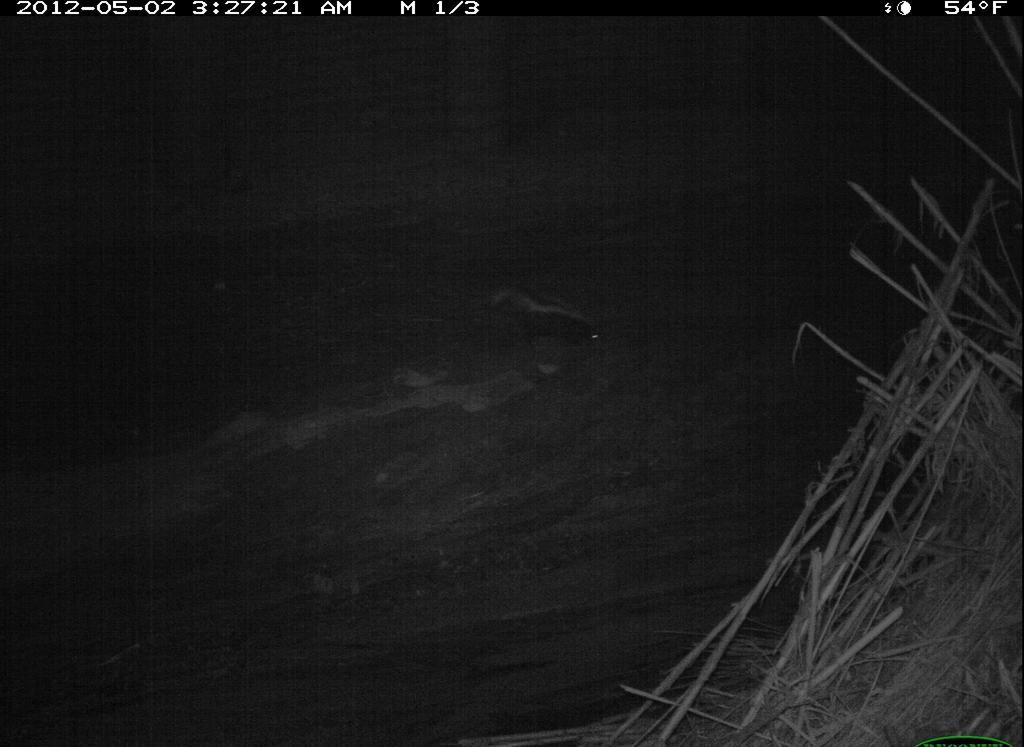skunk: (489, 285, 603, 355)
